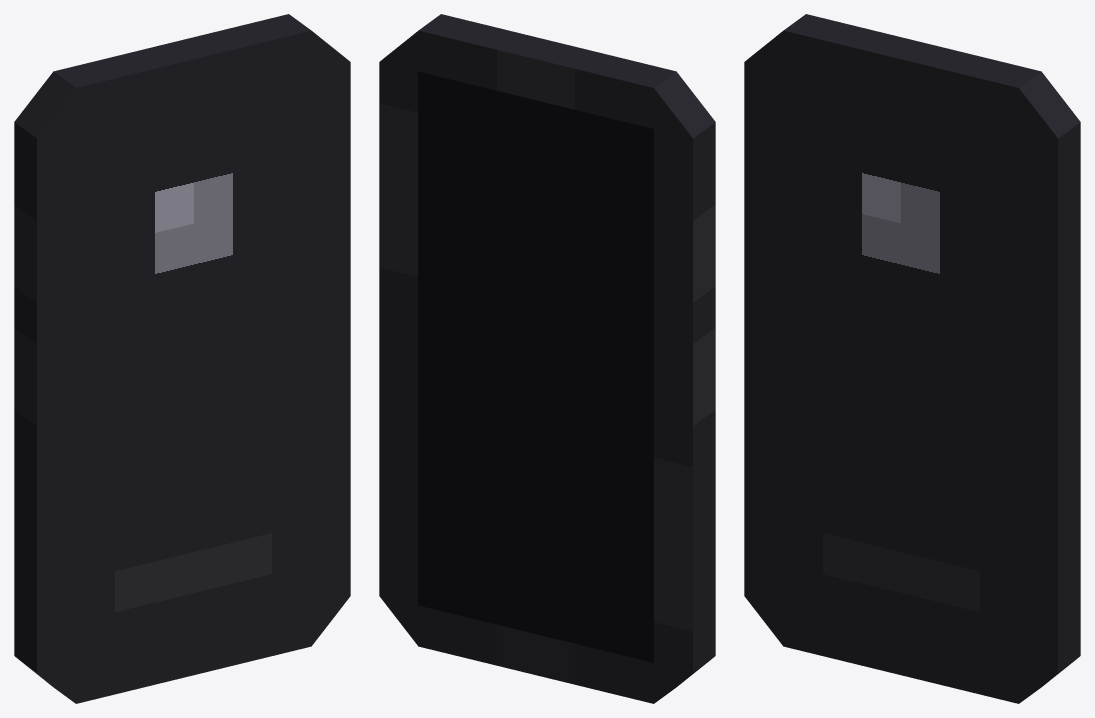
The model's file is phone.glb.
3 renders of one model, left to right at view 1: azimuth 30°, elevation 25°; view 2: azimuth 150°, elevation 25°; view 3: azimuth 330°, elevation 25°, orthographic.
Visible parts, largest first — view 1: cube_0, cube_1, cube_2, cube_4, cube_6, cube_5, cube_3; view 2: cube_0, cube_1, cube_2, cube_4, cube_5, cube_3, cube_6; view 3: cube_0, cube_1, cube_2, cube_5, cube_4, cube_6, cube_3.
Part boxes in pixels (x1,y1,x2,y2): cube_0: (14, 62, 350, 672); cube_1: (54, 14, 311, 128); cube_2: (76, 605, 311, 703); cube_4: (14, 71, 94, 151); cube_6: (17, 647, 94, 703); cube_5: (292, 31, 350, 86); cube_3: (292, 580, 350, 646); cube_0: (379, 62, 715, 672); cube_1: (418, 14, 675, 128); cube_2: (418, 605, 653, 703); cube_4: (635, 71, 715, 146); cube_5: (379, 31, 436, 86); cube_3: (379, 581, 437, 646); cube_6: (637, 658, 712, 703); cube_0: (744, 62, 1080, 672); cube_1: (783, 14, 1040, 128); cube_2: (783, 605, 1018, 703); cube_5: (1000, 71, 1080, 146); cube_4: (744, 31, 801, 86); cube_6: (744, 581, 802, 646); cube_3: (1002, 658, 1077, 703).
Bounding box in the file's own units: 0.5 × 0.9375 × 0.0625.
1 material, 1 textured.
